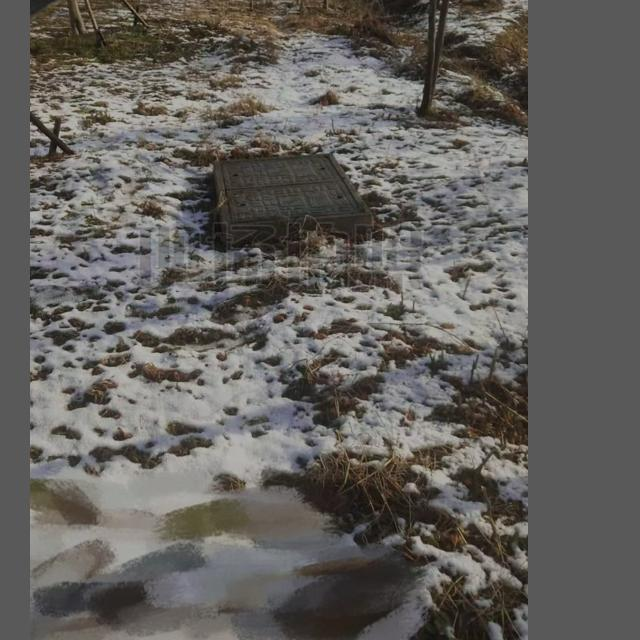circle: (206, 152, 384, 256)
